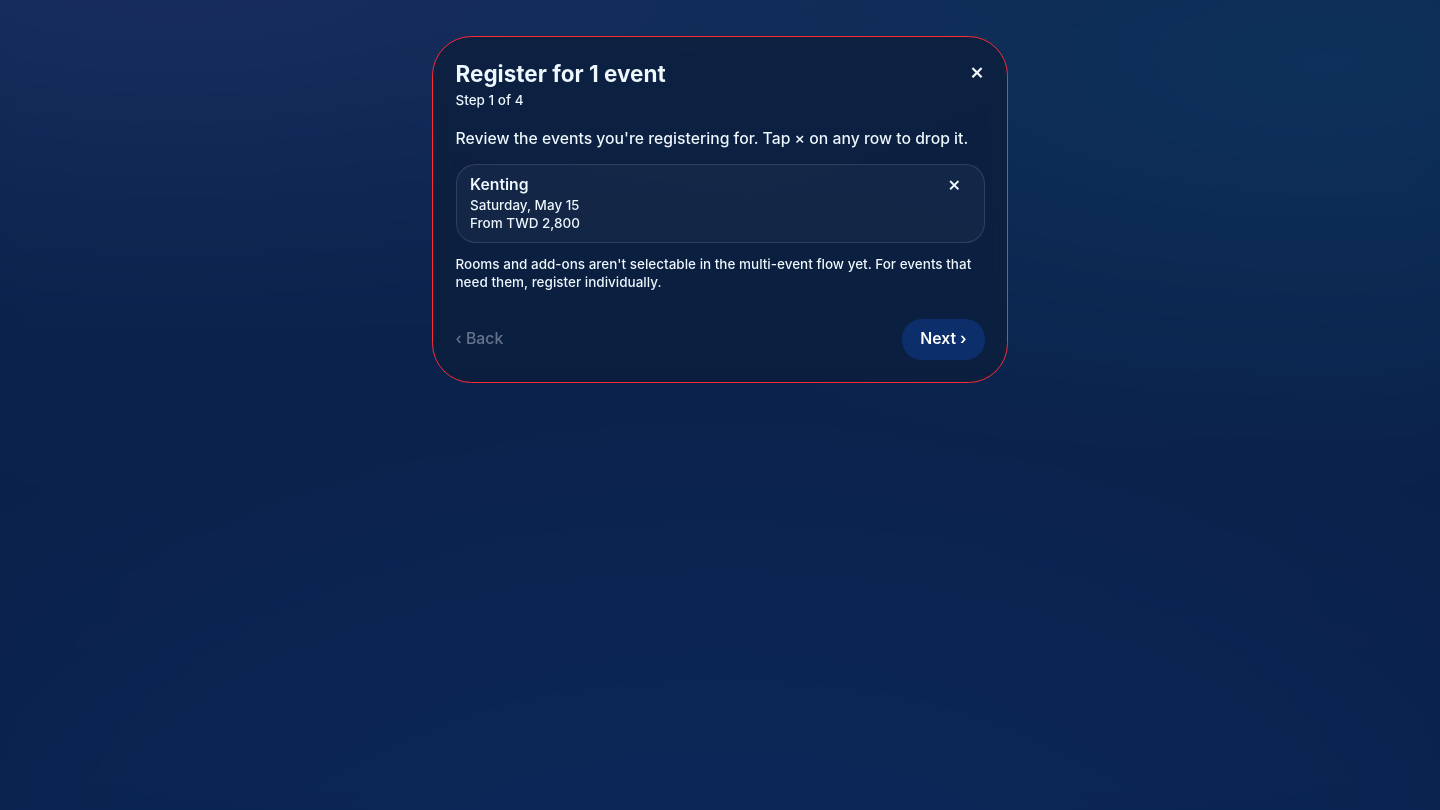
Test: MultiRegisterForm parent diver picker › offers only the boot style the shop rents when the parent opts into rental
Click the button "Next ›" at [943, 339], box [902,319,984,360]
(page scrolled)
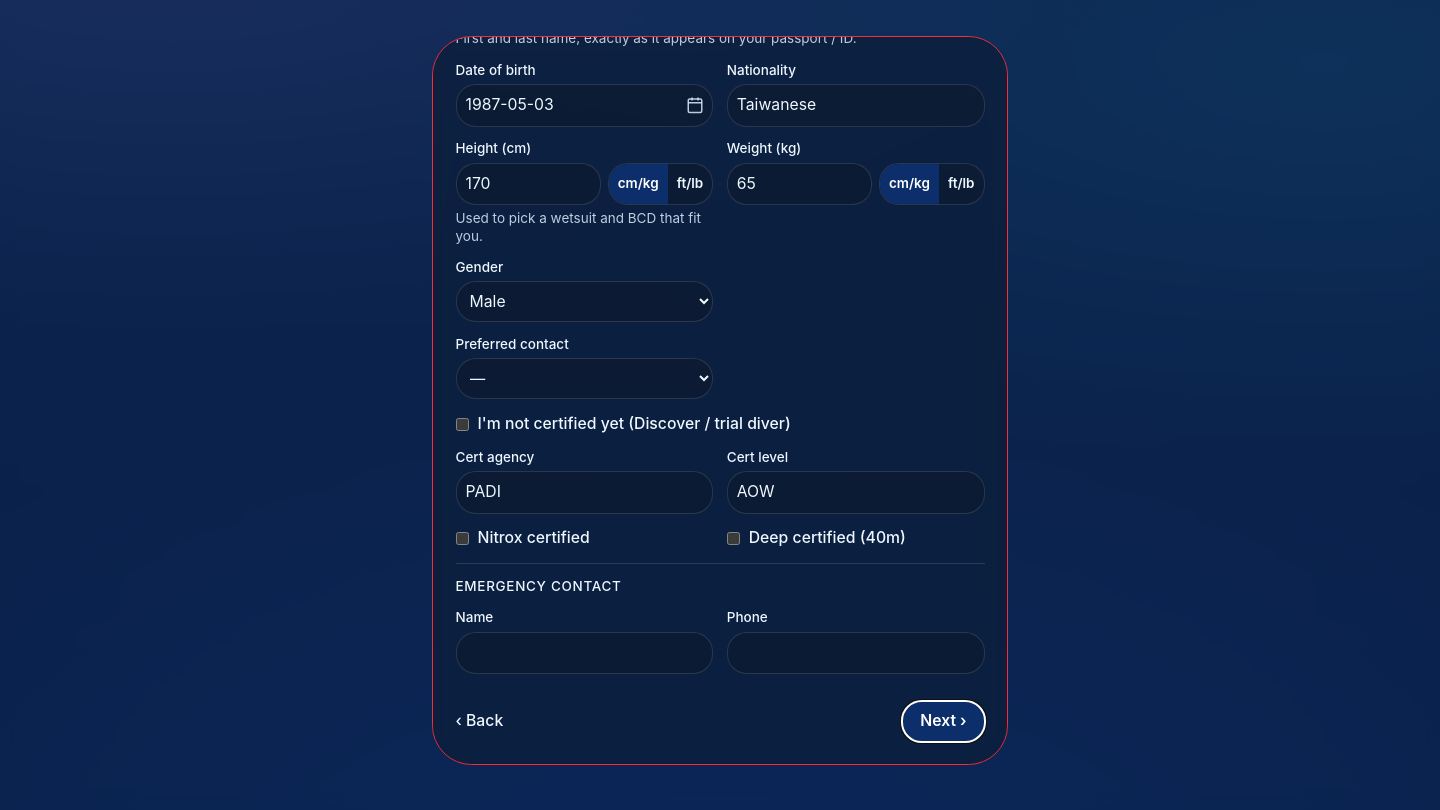
Click the button "Next ›" at [943, 722], box [902,701,984,742]
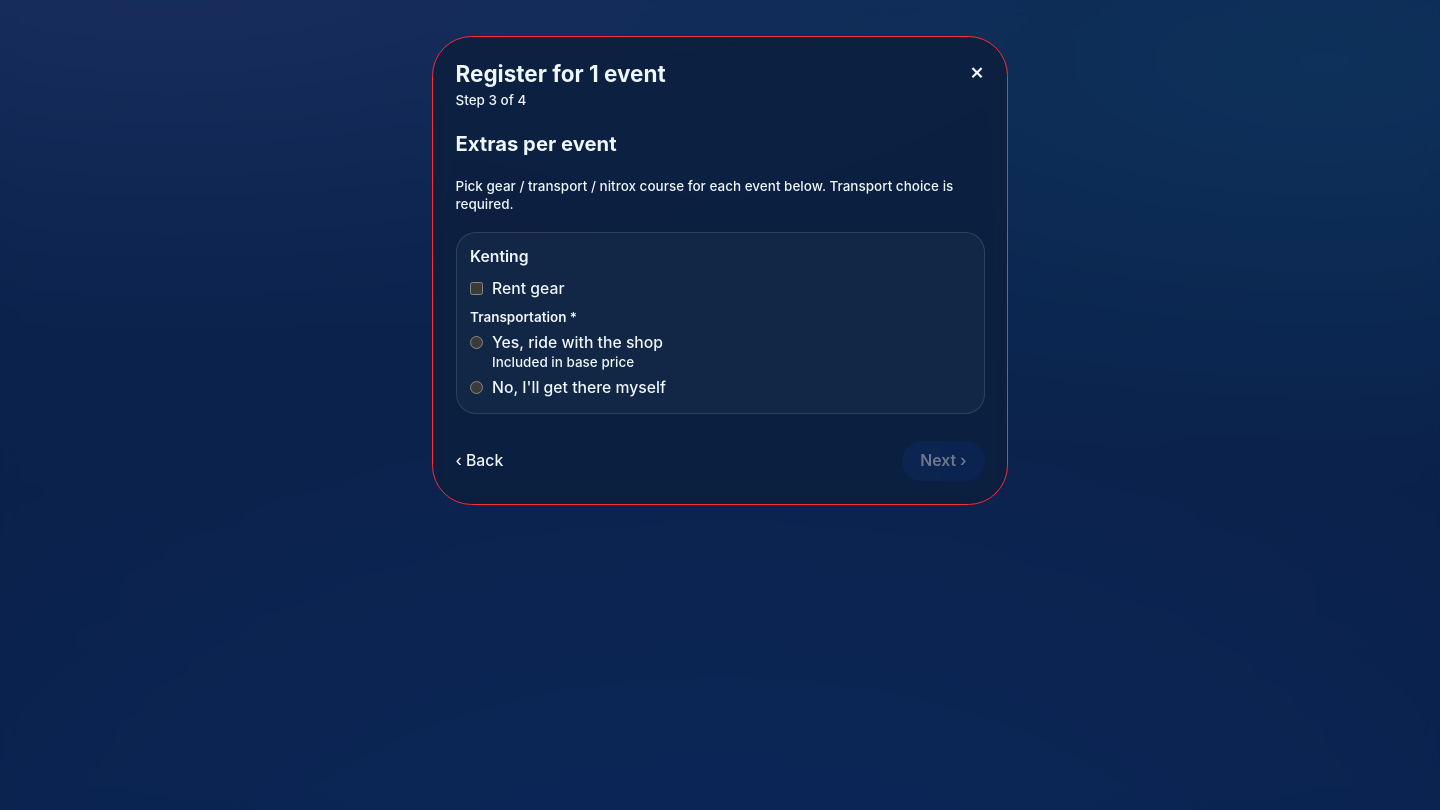
Click the checkbox labelled "Rent gear" at [476, 289], box [470,282,483,295]
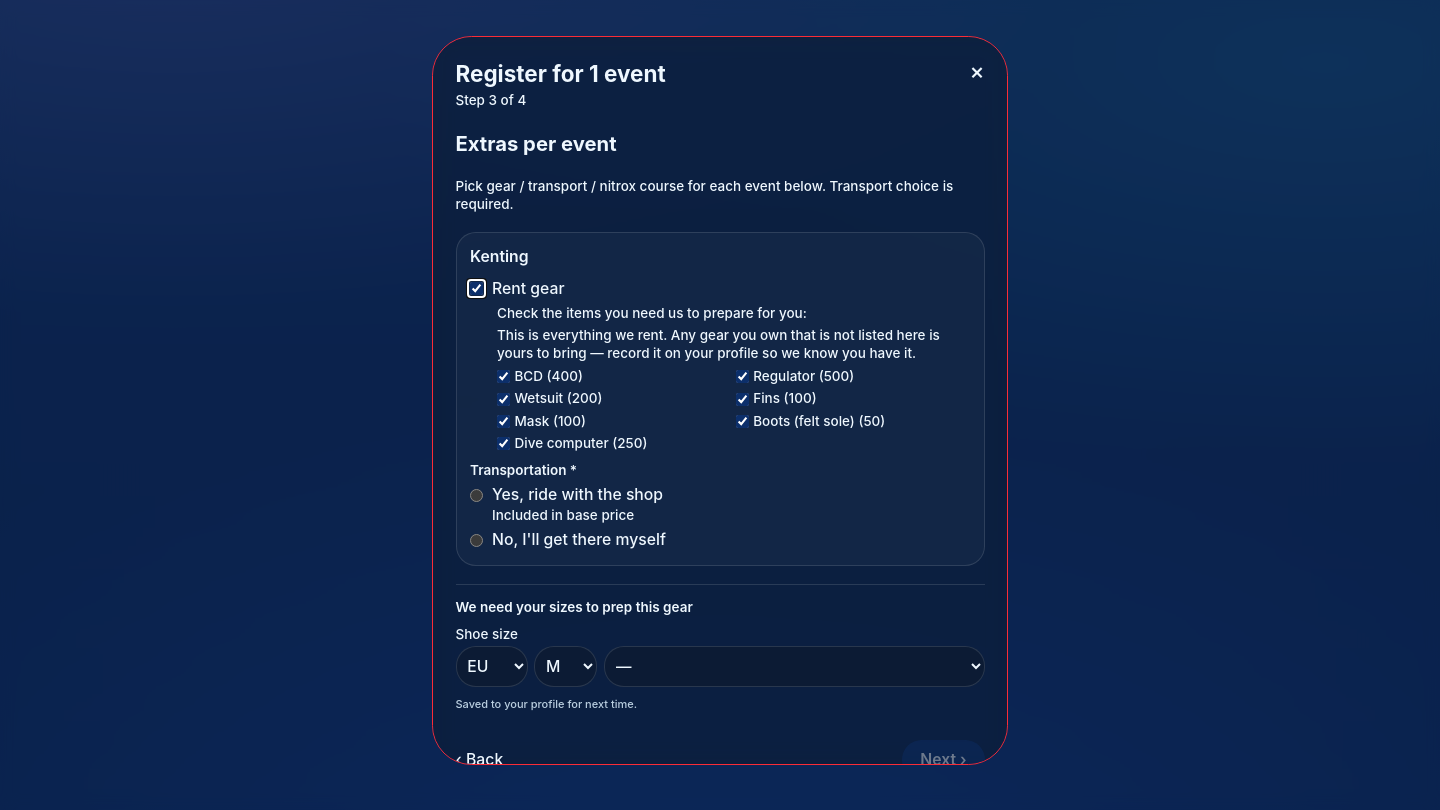
Now the text "This is everything we rent. Any gear you own that is not listed here is yours to bring — record it on your profile so we" is shown, box [497,327,940,361]
